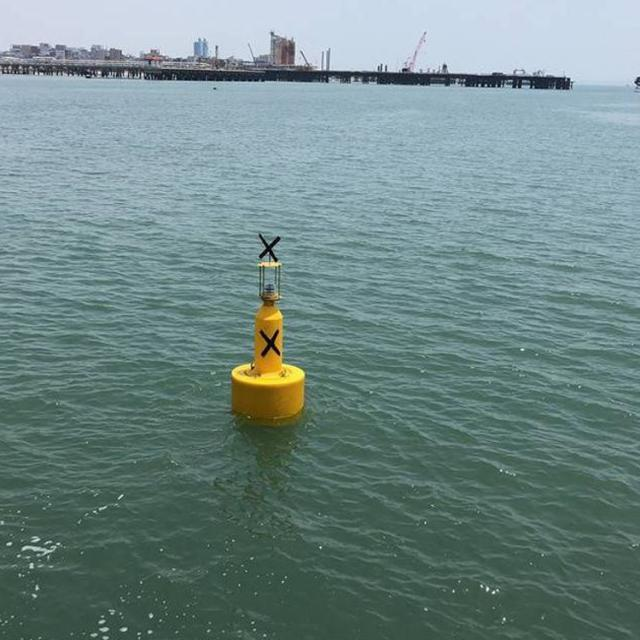buoy: (229, 232, 306, 423)
